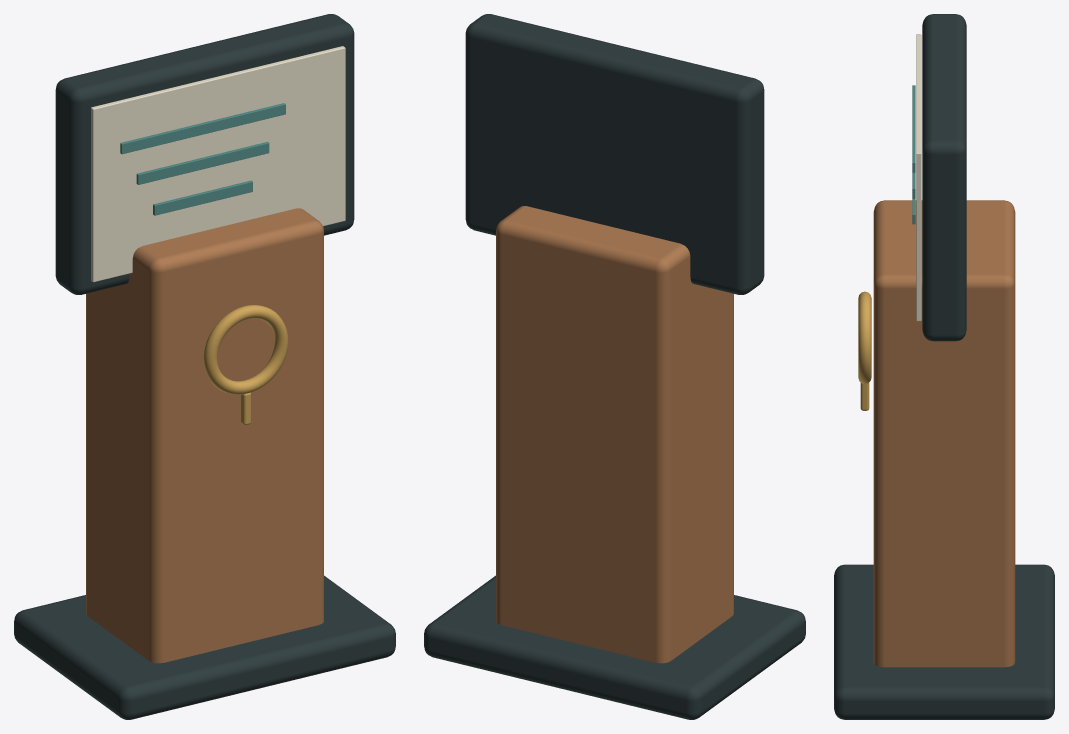
Rendered from help.glb.
3 renders of one model, left to right at view 1: azimuth 30°, elevation 25°; view 2: azimuth 150°, elevation 25°; view 3: azimuth 270°, elevation 25°, orthographic. The views are drawn at different scales.
Parts seen in each view (by area): view 1: help; view 2: help; view 3: help.
Part boxes in pixels (x1,y1,x2,y2): help: [14, 14, 395, 719]; help: [424, 14, 805, 719]; help: [834, 14, 1054, 719].
Size of the model in its own units: 0.72 by 1.45 by 0.5.
